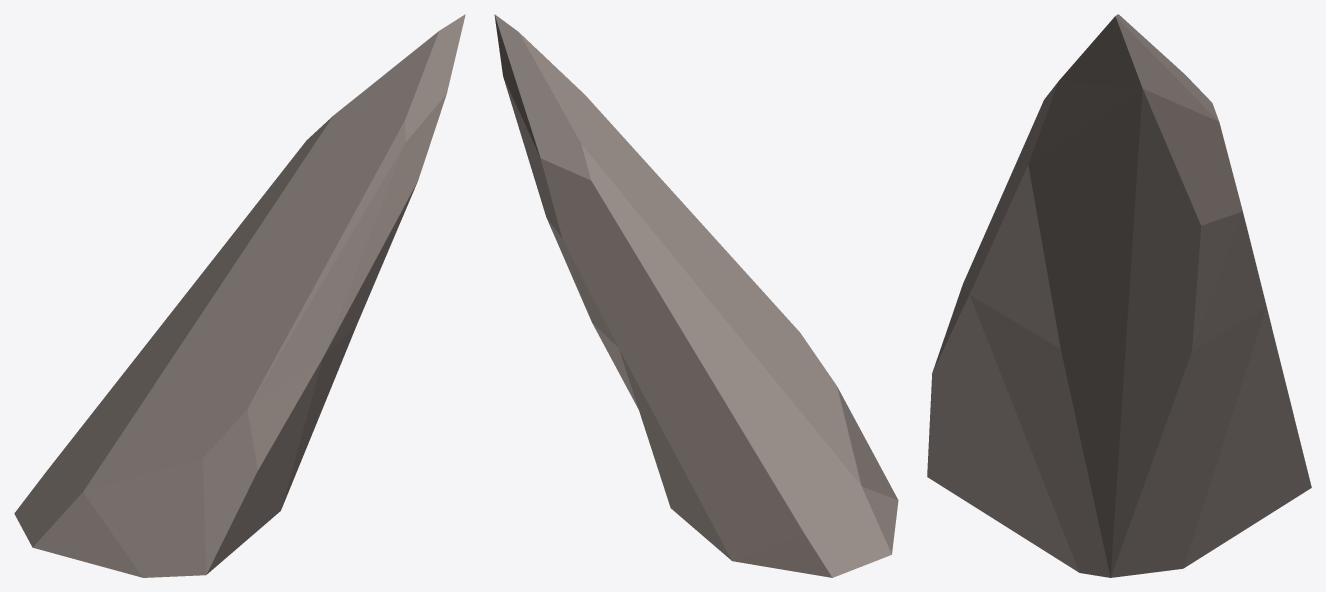
The model's file is Rock_Sharp_l_05 2.fbx.
The picture shows the model from 3 angles, left to right: view 1: azimuth 30°, elevation 25°; view 2: azimuth 150°, elevation 25°; view 3: azimuth 270°, elevation 25°; orthographic projection. The views are drawn at different scales.
Visible parts, largest first — view 1: Rock_Sharp_l_05; view 2: Rock_Sharp_l_05; view 3: Rock_Sharp_l_05.
Boxes of the visible parts, x1,y1,x2,y2 form: Rock_Sharp_l_05: [14, 14, 465, 577]; Rock_Sharp_l_05: [494, 14, 898, 577]; Rock_Sharp_l_05: [927, 14, 1311, 577].
Size of the model in its own units: 503 by 505 by 248.
